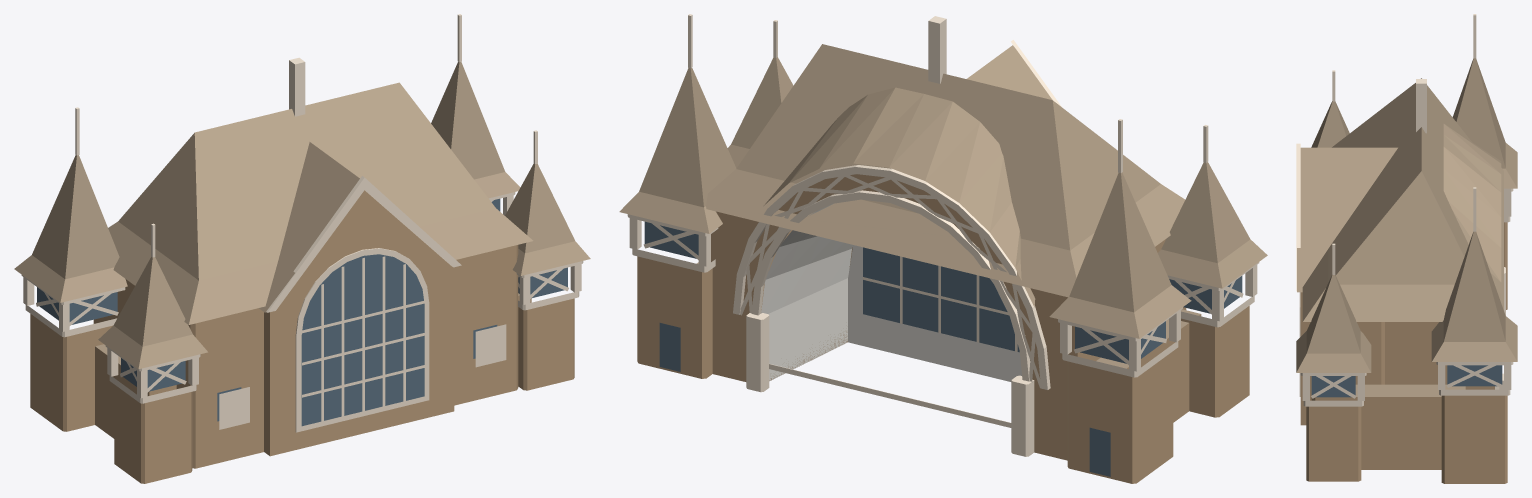
File: msp-lake-harriet-bandshell.glb
The picture shows the model from 3 angles, left to right: view 1: azimuth 30°, elevation 25°; view 2: azimuth 150°, elevation 25°; view 3: azimuth 270°, elevation 25°; orthographic projection. The views are drawn at different scales.
Parts seen in each view (by area): view 1: msp-lake-harriet-bandshell; view 2: msp-lake-harriet-bandshell; view 3: msp-lake-harriet-bandshell.
Part boxes in pixels (box(x1,y1,x2,y2)): msp-lake-harriet-bandshell: box(14, 14, 590, 483); msp-lake-harriet-bandshell: box(619, 14, 1267, 483); msp-lake-harriet-bandshell: box(1296, 14, 1517, 483).
Bounding box in the file's own units: 27.1 × 18.2 × 12.1.
